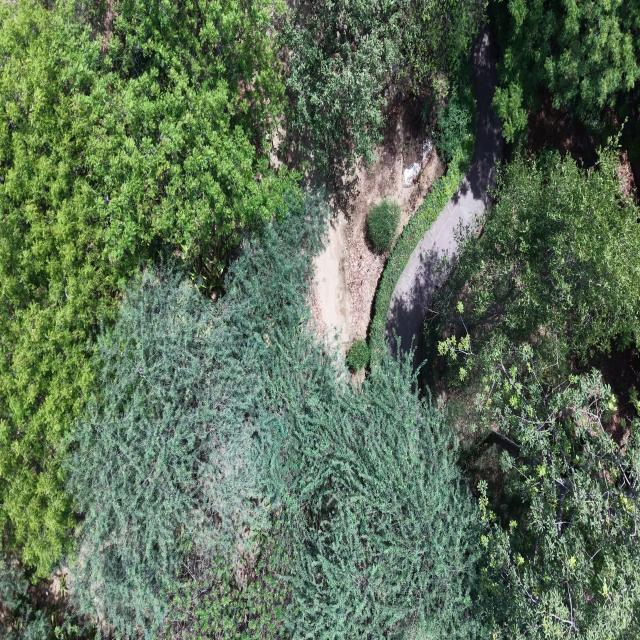DRY_AREA: (310, 103, 443, 352)
PATHWAYS: (386, 31, 502, 354)
VEGETATION_TREE: (0, 0, 639, 639), (71, 198, 639, 638), (69, 199, 478, 638), (0, 0, 290, 574), (68, 193, 323, 635), (425, 146, 639, 638), (252, 328, 474, 638), (67, 268, 245, 634), (281, 352, 480, 639), (463, 336, 639, 639), (480, 346, 639, 639), (433, 146, 639, 363), (285, 0, 484, 175), (369, 68, 475, 361), (369, 133, 474, 361), (494, 0, 639, 141), (285, 0, 401, 175), (158, 533, 288, 639), (392, 0, 487, 92), (0, 554, 94, 639), (0, 555, 52, 639), (434, 68, 475, 166), (493, 83, 527, 143), (366, 199, 401, 253), (347, 339, 370, 372)
